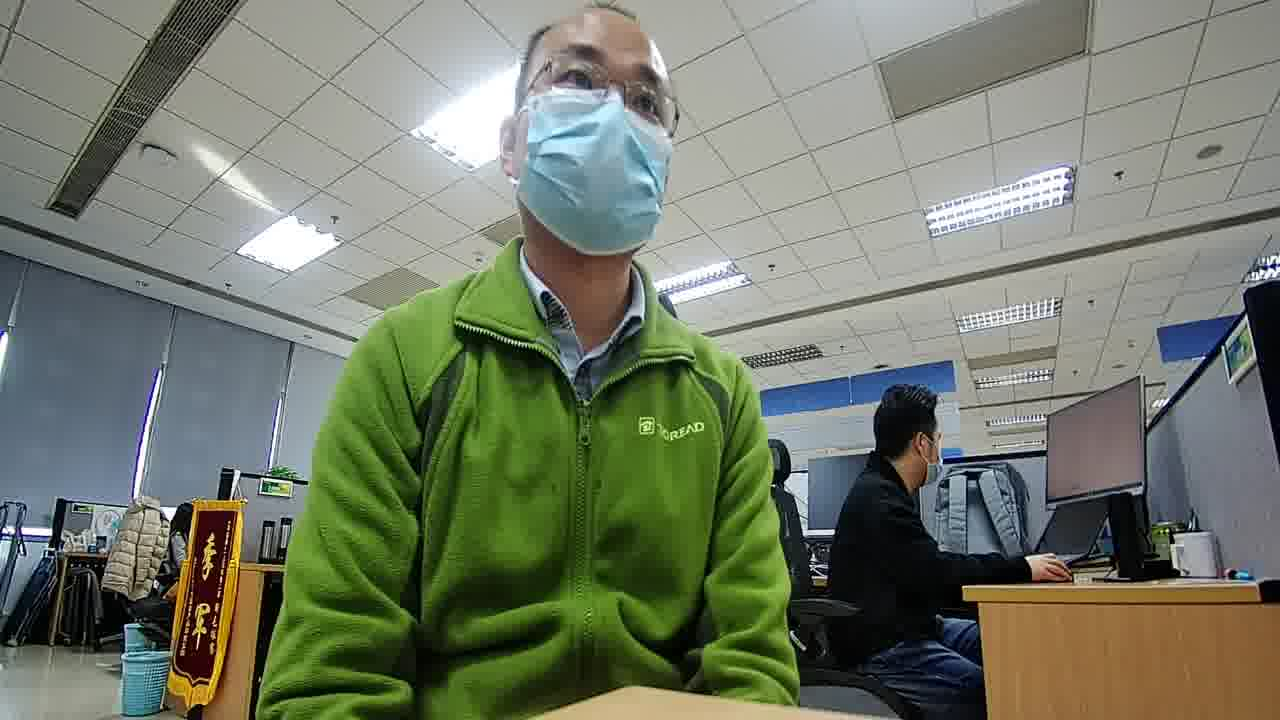face: (519, 21, 676, 260)
mask: (516, 85, 672, 257)
person: (340, 1, 752, 410), (837, 379, 959, 542), (165, 497, 193, 548)
